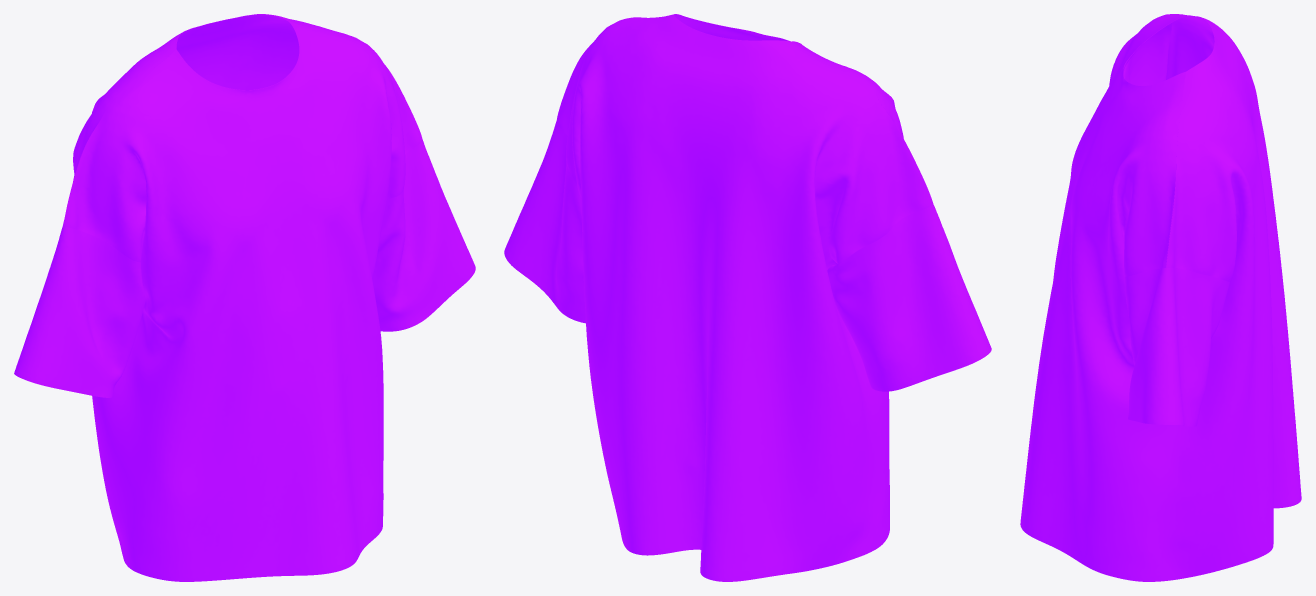
The model's file is tshirt21_fixed.glb.
The picture shows the model from 3 angles, left to right: view 1: azimuth 30°, elevation 25°; view 2: azimuth 150°, elevation 25°; view 3: azimuth 270°, elevation 25°; orthographic projection. The views are drawn at different scales.
Visible parts, largest first — view 1: bb947172-89d7-43a6-ad6e-aa96764be038; view 2: bb947172-89d7-43a6-ad6e-aa96764be038; view 3: bb947172-89d7-43a6-ad6e-aa96764be038.
Boxes of the visible parts, x1,y1,x2,y2 form: bb947172-89d7-43a6-ad6e-aa96764be038: (14,14,475,581); bb947172-89d7-43a6-ad6e-aa96764be038: (504,14,991,581); bb947172-89d7-43a6-ad6e-aa96764be038: (1020,14,1301,581).
Size of the model in its own units: 3.91 by 4.02 by 2.1.
